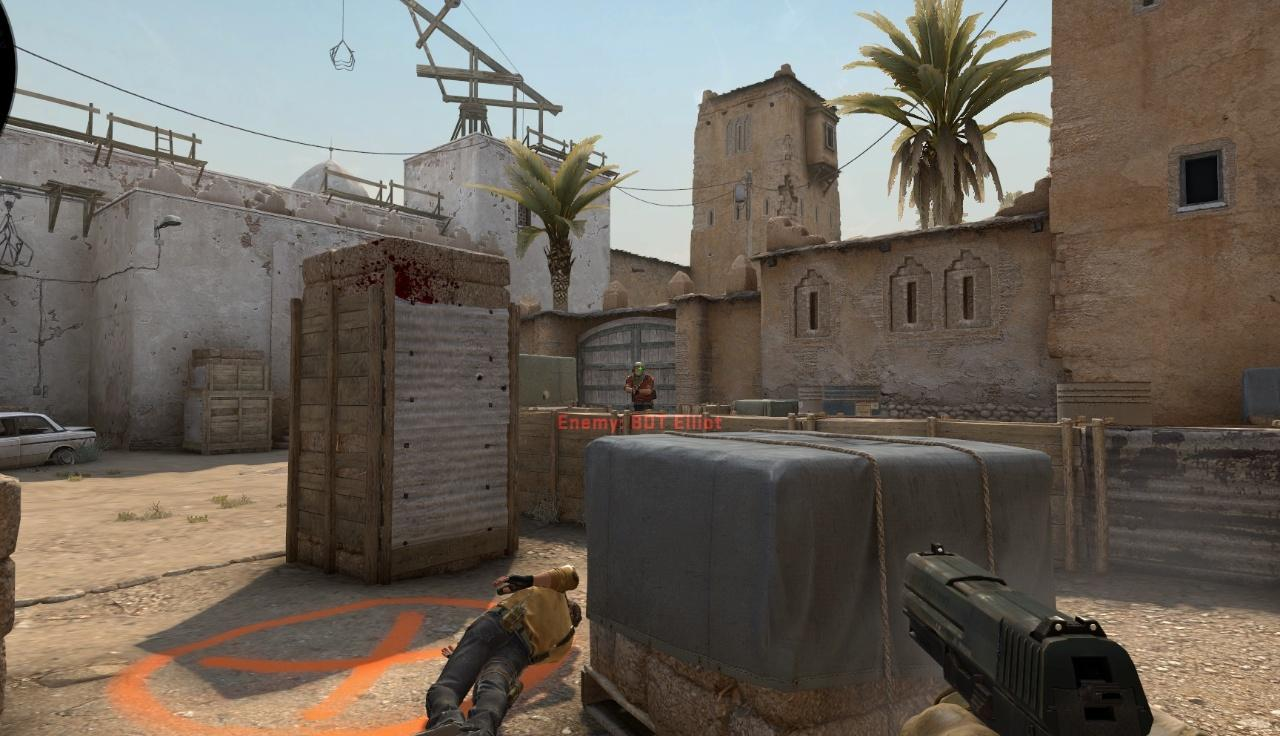pistol: (898, 543, 1156, 736)
tt: (624, 361, 657, 412)
tthead: (633, 362, 645, 377)
